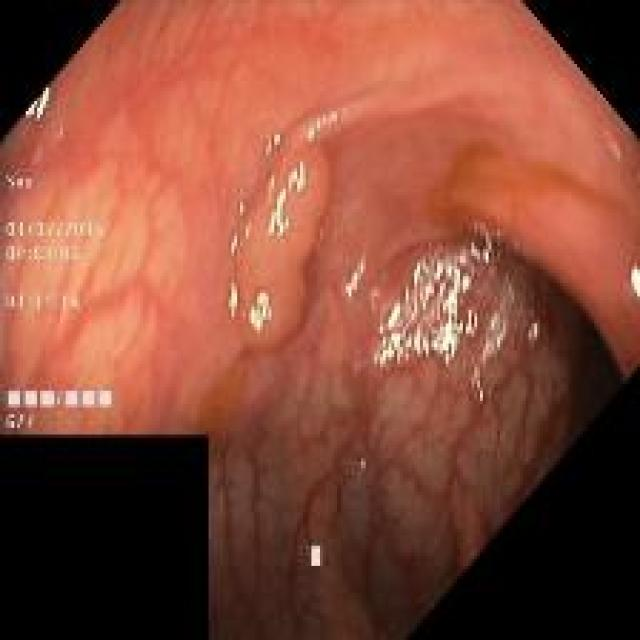Polyps: (236, 131, 331, 351)
